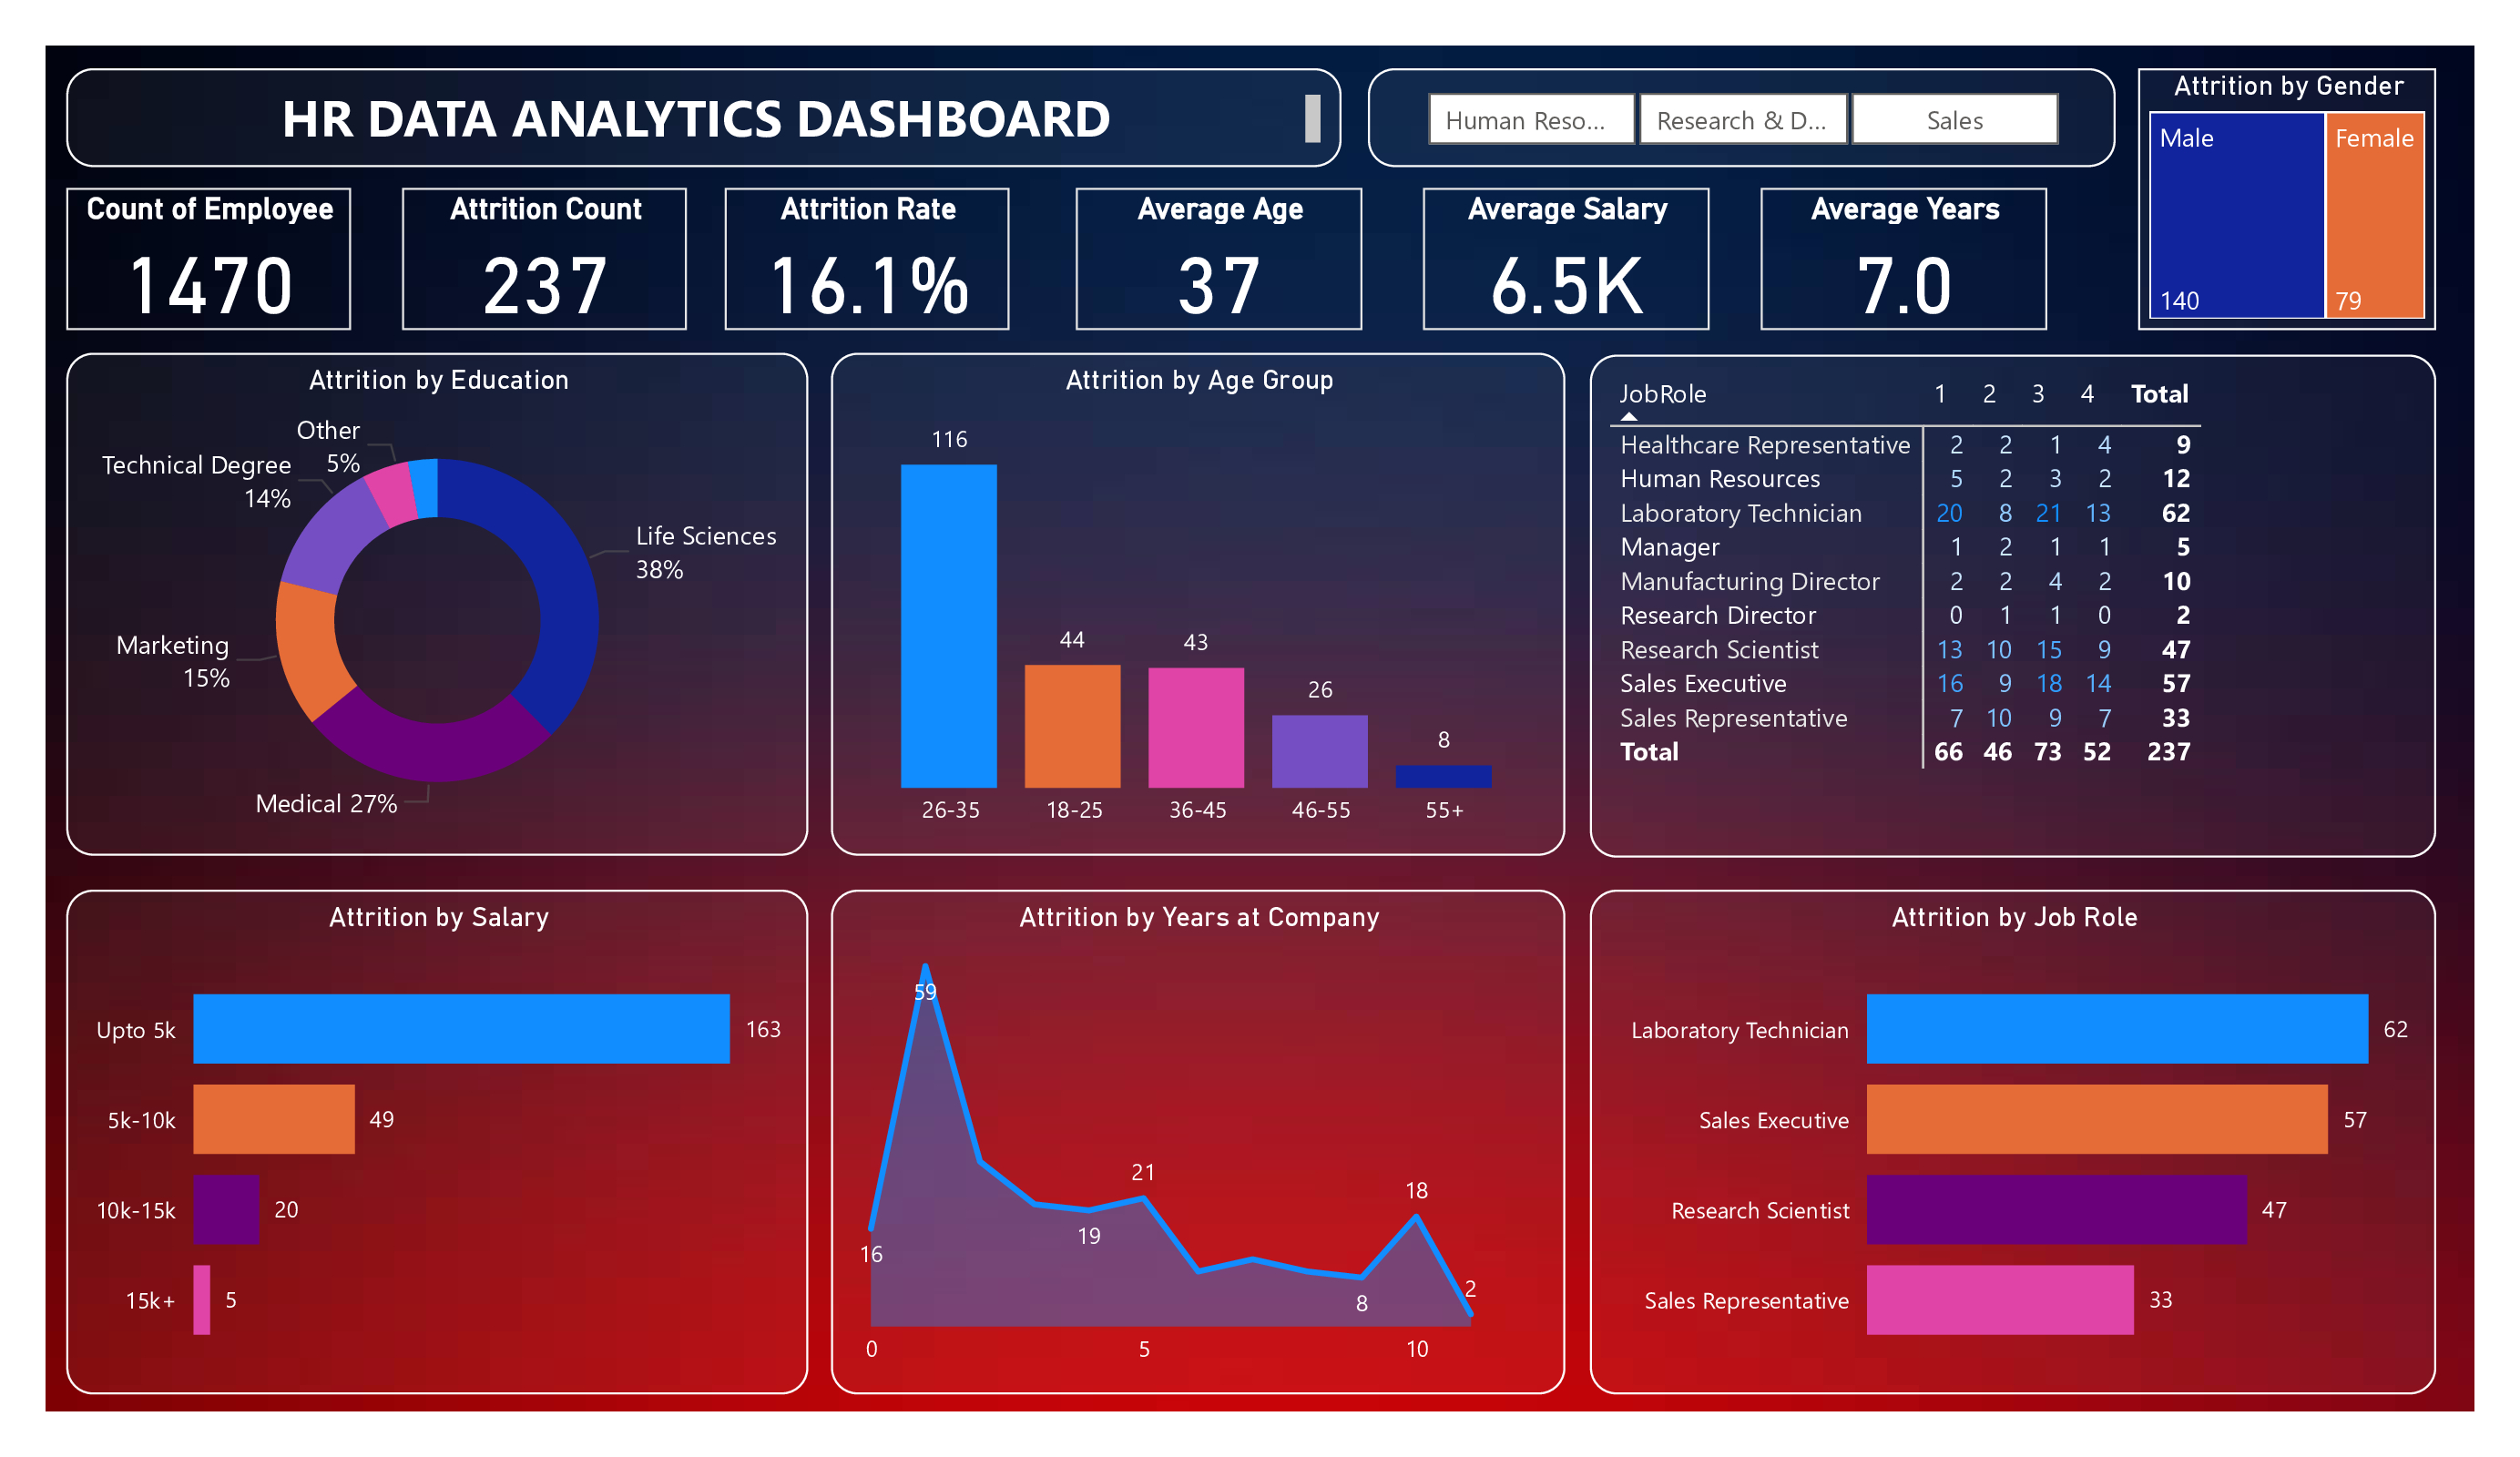

Layout of this report page (visuals, bound fields, positions):
{"tool":"powerbi","page":{"name":"Page 1","canvas":[1280,720],"ordinal":0},"visuals":[{"type":"card","title":"Count of Employee","fields":{"Values":["CountNonNull(HR_Analytics.EmpID)"]},"box":[11,75.5,149.6,74.1],"z":0},{"type":"card","title":"Average Age","fields":{"Values":["Avg(HR_Analytics.Age)"]},"box":[543.4,75.5,150.9,74.1],"z":1000},{"type":"card","title":"Attrition Rate","fields":{"Values":["HR_Analytics.AttritionRate"]},"box":[358.1,75.5,149.6,74.1],"z":2000},{"type":"card","title":"Attrition Count","fields":{"Values":["Sum(HR_Analytics.AttritionCount)"]},"box":[188,75.5,149.6,74.1],"z":3000},{"type":"card","title":"Average Salary","fields":{"Values":["Avg(HR_Analytics.MonthlyIncome)"]},"box":[725.9,75.5,150.9,74.1],"z":4000},{"type":"card","title":"Average Years","fields":{"Values":["Avg(HR_Analytics.YearsAtCompany)"]},"box":[904.3,75.5,150.9,74.1],"z":5000},{"type":"donutChart","title":"Attrition by Education","fields":{"Category":["HR_Analytics.EducationField"],"Y":["Sum(HR_Analytics.AttritionCount)"]},"box":[11,161.9,391.1,264.8],"z":6000},{"type":"columnChart","title":"Attrition by Age Group","fields":{"Category":["HR_Analytics.AgeGroup"],"Y":["Sum(HR_Analytics.AttritionCount)"]},"box":[414.4,161.9,387,264.8],"z":7000},{"type":"pivotTable","fields":{"Rows":["HR_Analytics.JobRole"],"Columns":["HR_Analytics.JobSatisfaction"],"Values":["Sum(HR_Analytics.AttritionCount)"]},"box":[813.7,163.3,446,264.8],"z":8000},{"type":"barChart","title":"Attrition by Salary","fields":{"Category":["HR_Analytics.SalarySlab"],"Y":["Sum(HR_Analytics.AttritionCount)"]},"box":[11,444.6,391.1,266.2],"z":9000},{"type":"barChart","title":"Attrition by Job Role","fields":{"Category":["HR_Analytics.JobRole"],"Y":["Sum(HR_Analytics.AttritionCount)"]},"box":[813.7,444.6,446,266.2],"z":10000},{"type":"areaChart","title":"Attrition by Years at Company","fields":{"Category":["HR_Analytics.YearsAtCompany"],"Y":["Sum(HR_Analytics.AttritionCount)"]},"box":[414.4,444.6,387,266.2],"z":11000},{"type":"treemap","title":"Attrition by Gender","fields":{"Group":["HR_Analytics.Gender"],"Values":["Sum(HR_Analytics.AttritionCount)"]},"box":[1103.3,12.3,156.4,137.2],"z":12000},{"type":"textbox","box":[11,12.3,672.4,52.1],"z":13000},{"type":"slicer","fields":{"Values":["HR_Analytics.Department"]},"box":[697.1,12.3,393.8,52.1],"z":14000}]}

Visuals, with their boxes in screenshot pixels (x1, y1, x2, y2):
"Count of Employee" card: <bbox>66, 188, 351, 330</bbox>
"Average Age" card: <bbox>1076, 188, 1363, 330</bbox>
"Attrition Rate" card: <bbox>725, 188, 1009, 330</bbox>
"Attrition Count" card: <bbox>403, 188, 686, 330</bbox>
"Average Salary" card: <bbox>1423, 188, 1709, 330</bbox>
"Average Years" card: <bbox>1761, 188, 2048, 330</bbox>
"Attrition by Education" donutChart: <bbox>66, 352, 809, 855</bbox>
"Attrition by Age Group" columnChart: <bbox>831, 352, 1566, 855</bbox>
pivotTable - HR_Analytics.JobRole x HR_Analytics.JobSatisfaction: <bbox>1589, 355, 2436, 858</bbox>
"Attrition by Salary" barChart: <bbox>66, 889, 809, 1394</bbox>
"Attrition by Job Role" barChart: <bbox>1589, 889, 2436, 1394</bbox>
"Attrition by Years at Company" areaChart: <bbox>831, 889, 1566, 1394</bbox>
"Attrition by Gender" treemap: <bbox>2139, 69, 2436, 329</bbox>
textbox: <bbox>66, 69, 1342, 168</bbox>
slicer - HR_Analytics.Department: <bbox>1368, 69, 2116, 168</bbox>
